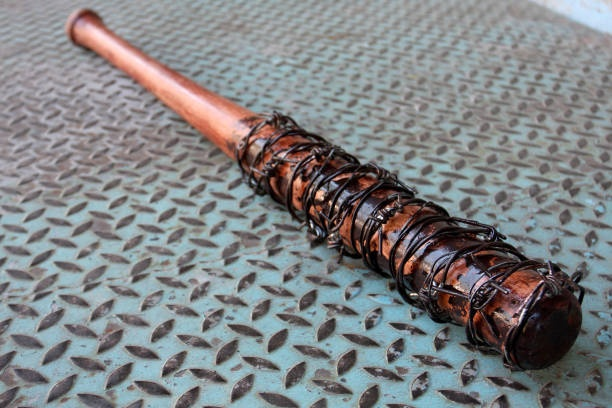bita: (58, 15, 573, 359)
